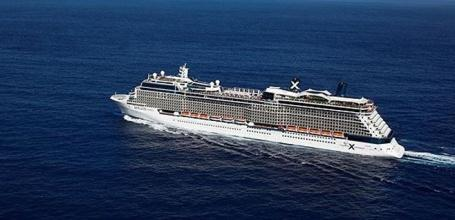youlun: (106, 61, 416, 159)
